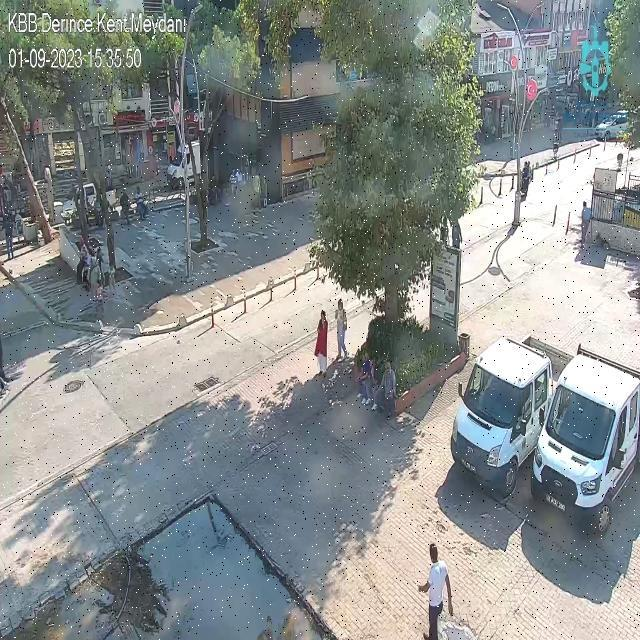Car: (594, 115, 636, 144)
Truck: (529, 341, 640, 536), (452, 328, 577, 499)
Van: (165, 141, 199, 189)
